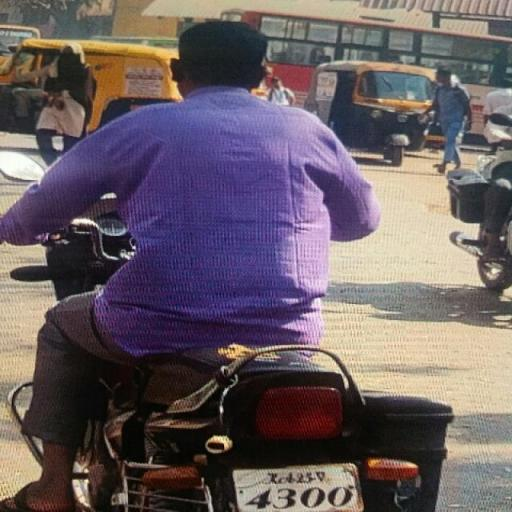bike: (10, 12, 450, 510)
numberplate: (232, 466, 360, 512)
withouthelmet: (174, 24, 264, 90)
